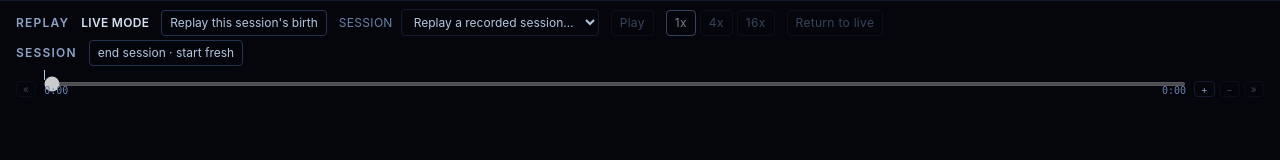
Scenario: ReplayControls › returning to live clears the session and disables the transport
The image size is (1280, 160).
Select "1970-01-01T00:00:01.000Z" in the dropdown labelled "session" at (500, 22), box [401,9,599,36]
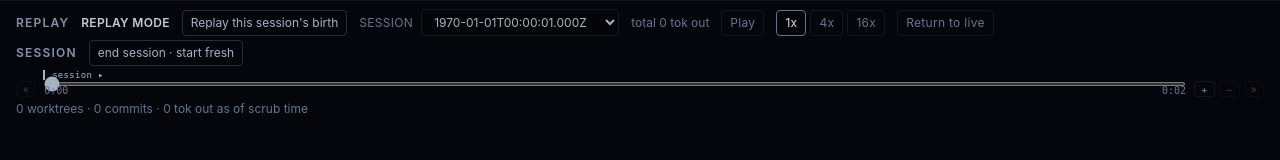
Now the text "Replay mode" is shown, box [81,14,170,30]
Click the button "Return to live" at (946, 22), box [897,10,994,36]
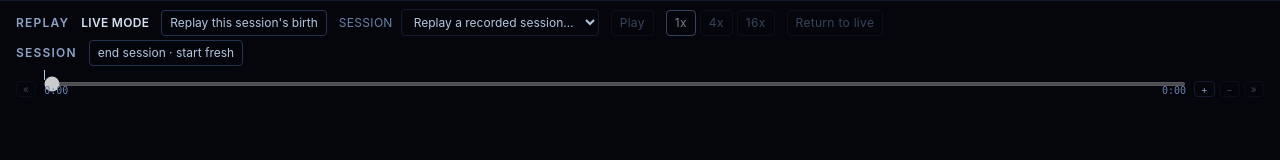
Now the text "Live mode" is shown, box [81,14,149,30]
Now the button "Play" is disabled, box [611,10,654,36]
